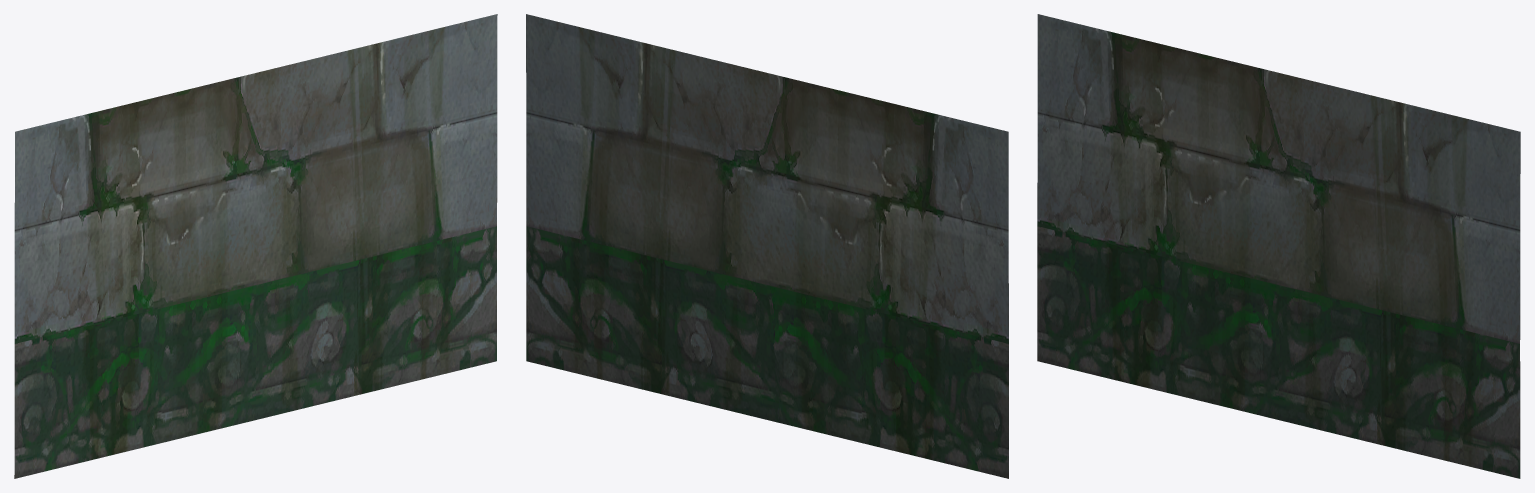
Rendered from stemple_half_straight_08.fbx.
3 views of the same model, side by side, from view 1: azimuth 30°, elevation 25°; view 2: azimuth 150°, elevation 25°; view 3: azimuth 330°, elevation 25° (orthographic).
Parts seen in each view (by area): view 1: stemple_half_straight_08-0; view 2: stemple_half_straight_08-0; view 3: stemple_half_straight_08-0.
Boxes of the visible parts, x1,y1,x2,y2 form: stemple_half_straight_08-0: [14, 14, 497, 478]; stemple_half_straight_08-0: [526, 14, 1008, 478]; stemple_half_straight_08-0: [1037, 14, 1520, 478].
Size of the model in its own units: 4 by 2.75 by 0.0009.
